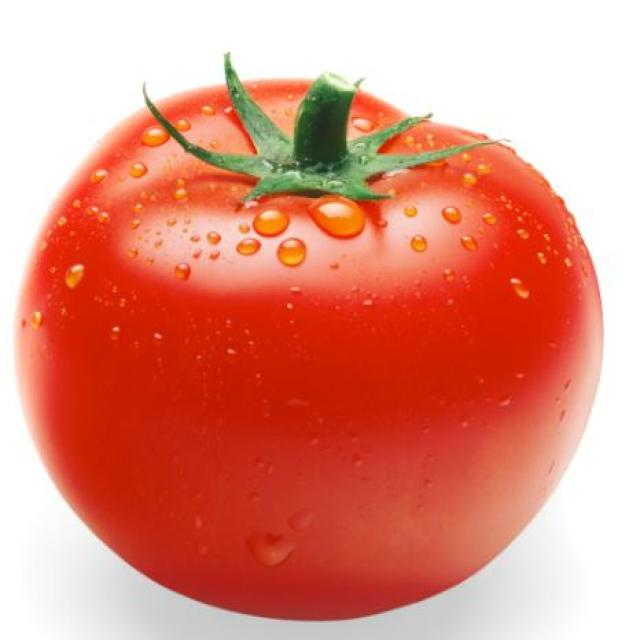Healthy: (15, 41, 612, 600)
